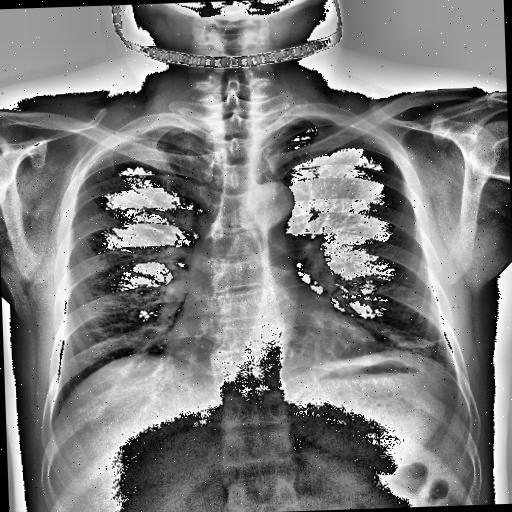1- Atelectasis: (280, 274, 486, 422), (397, 328, 450, 352)
13- Pulmonary fibrosis: (377, 328, 452, 354)
